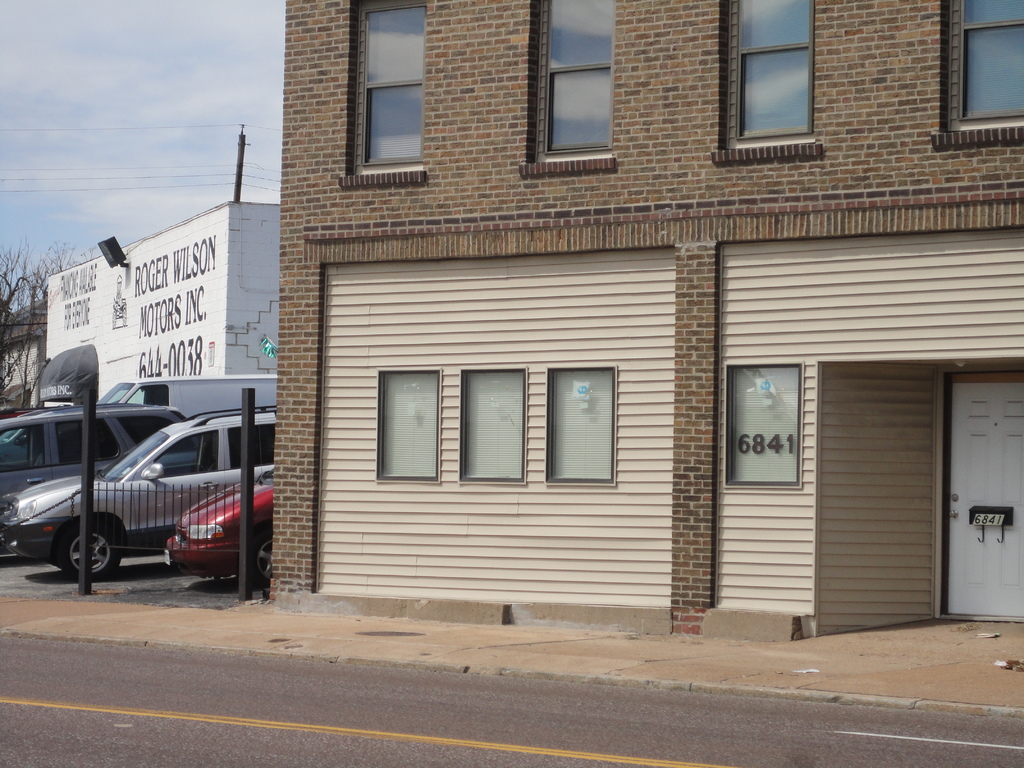Car: (0, 410, 184, 547)
